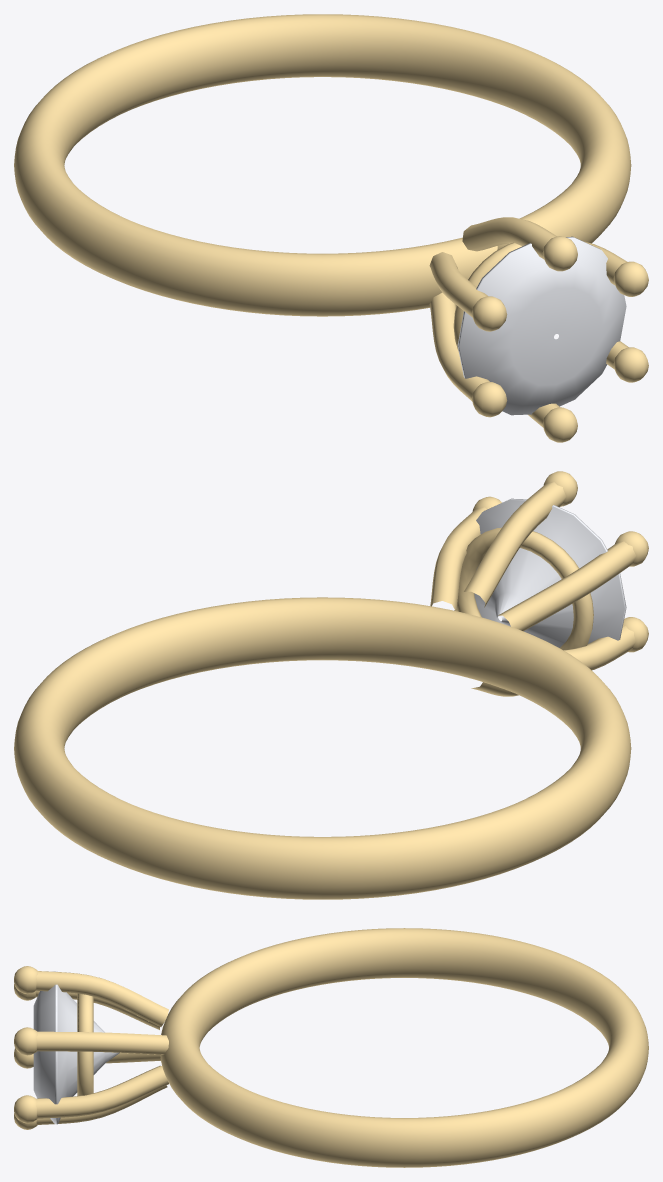
Rendered from ring-solitaire.glb.
The picture shows the model from 3 angles, top to bottom: view 1: azimuth 30°, elevation 25°; view 2: azimuth 150°, elevation 25°; view 3: azimuth 270°, elevation 25°; orthographic projection. The views are drawn at different scales.
Visible parts, largest first — view 1: band, stone, setting; view 2: band, setting, stone; view 3: band, setting, stone.
Boxes of the visible parts, bbox=[...] form: band: bbox=[14, 14, 631, 316]; stone: bbox=[457, 236, 626, 415]; setting: bbox=[429, 217, 648, 442]; band: bbox=[14, 597, 631, 899]; setting: bbox=[430, 471, 648, 696]; stone: bbox=[474, 498, 626, 647]; band: bbox=[160, 928, 648, 1167]; setting: bbox=[14, 966, 168, 1129]; stone: bbox=[33, 971, 119, 1124].
Size of the model in its own units: 0.0208 by 0.00757 by 0.027.
